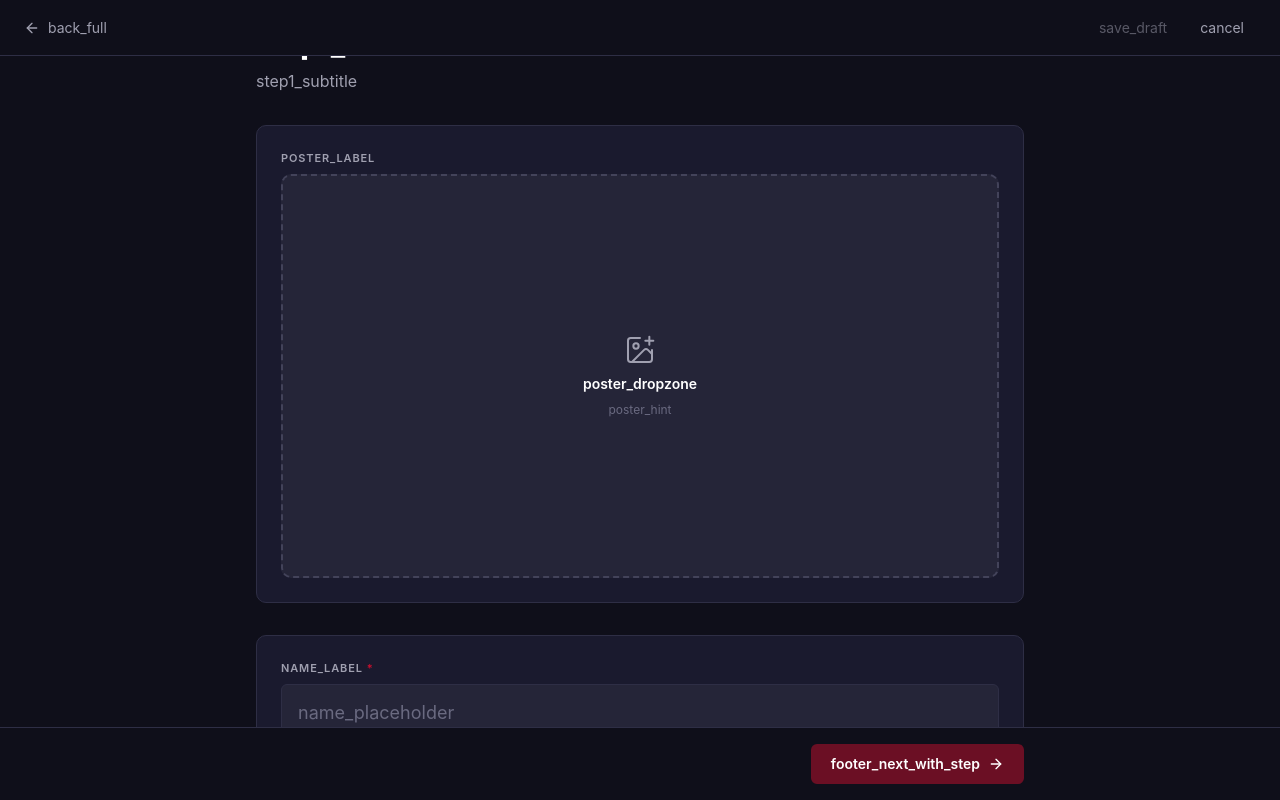
Test case: NewTournamentPage › disables Save Draft until name + sport + startDate + venue are all filled
(page scrolled)
Expected: the button "save_draft" is disabled, [1086, 10, 1180, 44]
Type "Spring Cup 2026" into the field with placeholder "name_placeholder" at (640, 712), box [281, 684, 999, 740]
(page scrolled)
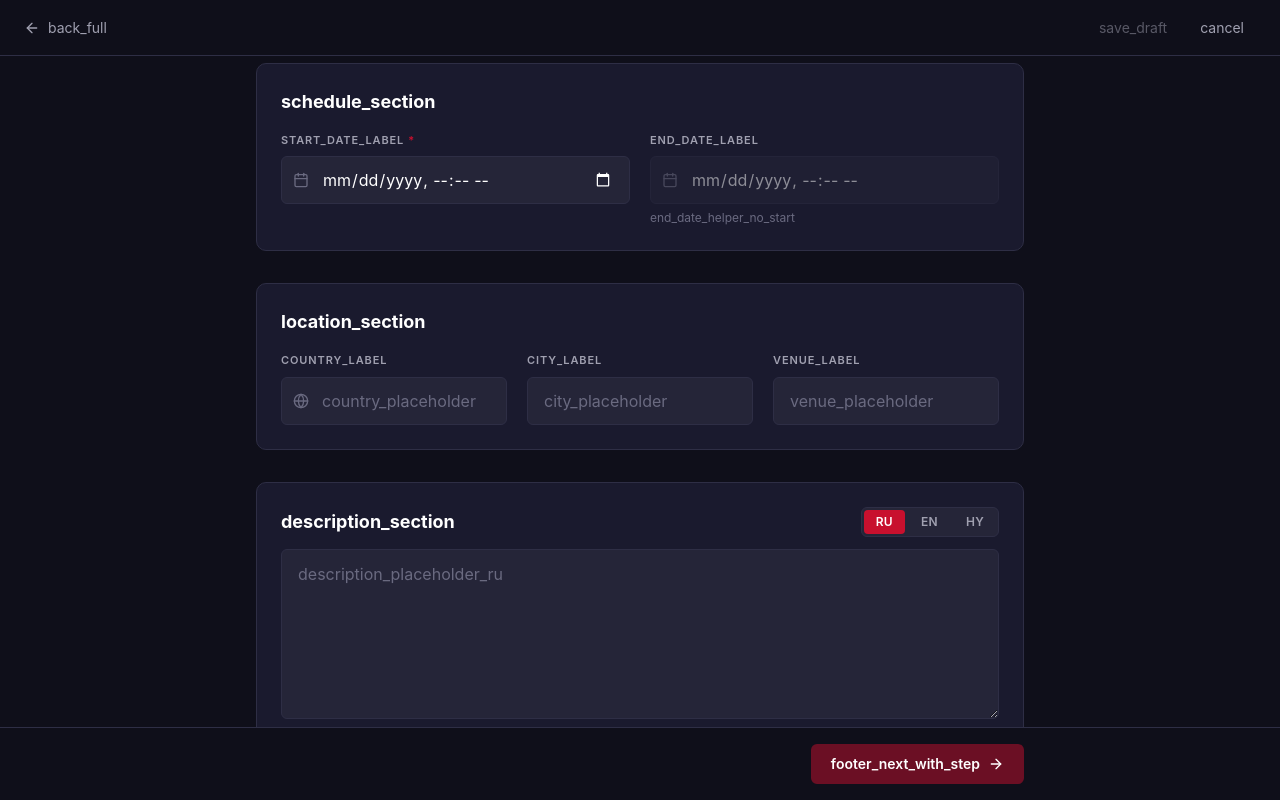
Type "Yerevan Arena" into the field with placeholder "venue_placeholder" at (886, 401), box [773, 377, 999, 425]
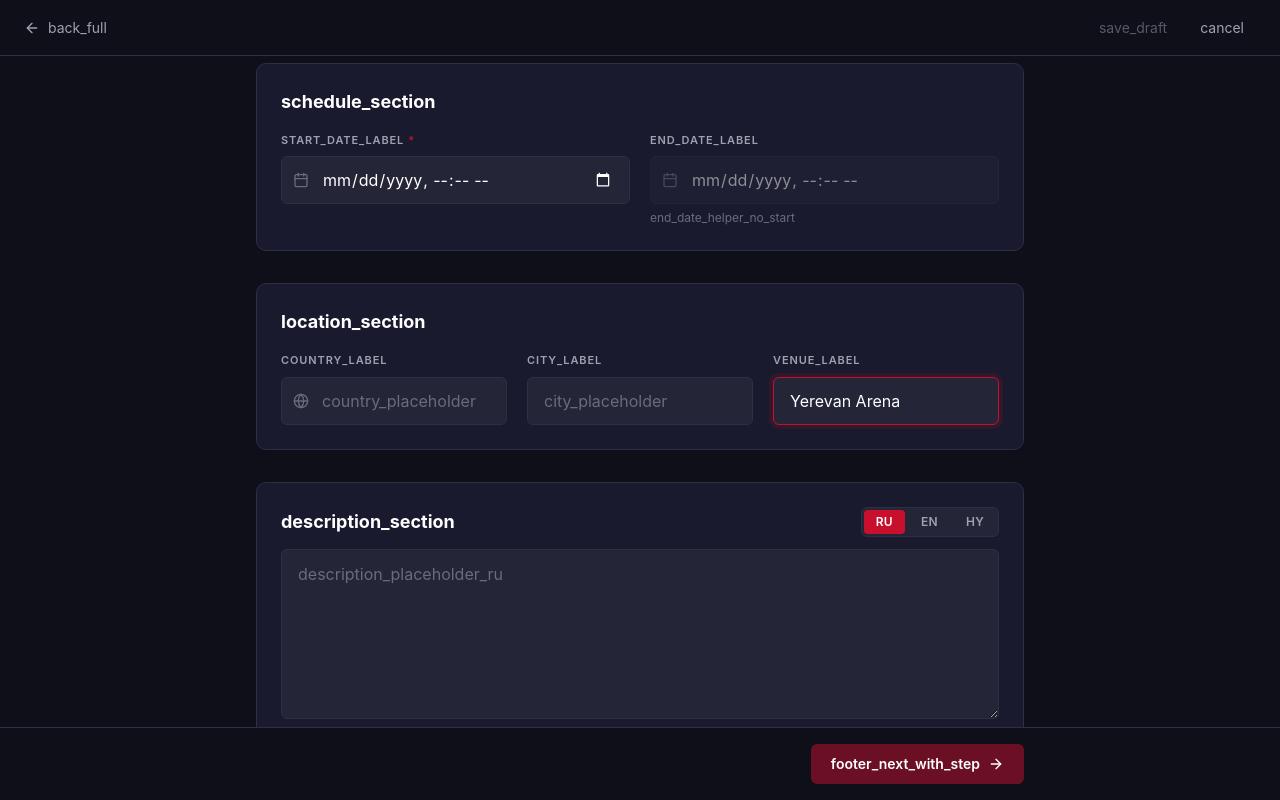
Type "2027-06-01T10:00" into the field below "start_date_label" at (456, 180), box [281, 156, 630, 204]
(page scrolled)
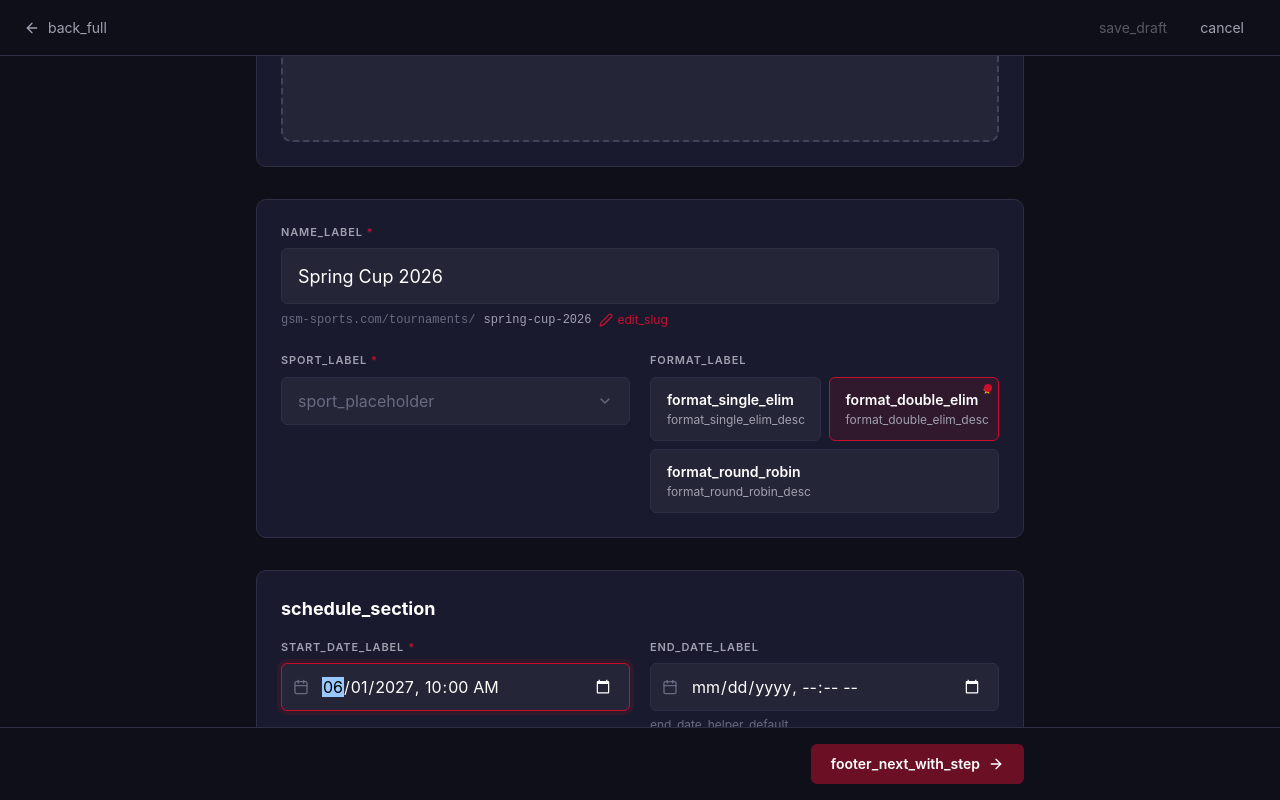
Open the sport dropdown and pick boxing.
Click the button "sport_placeholder" at (366, 401), box [281, 377, 630, 425]
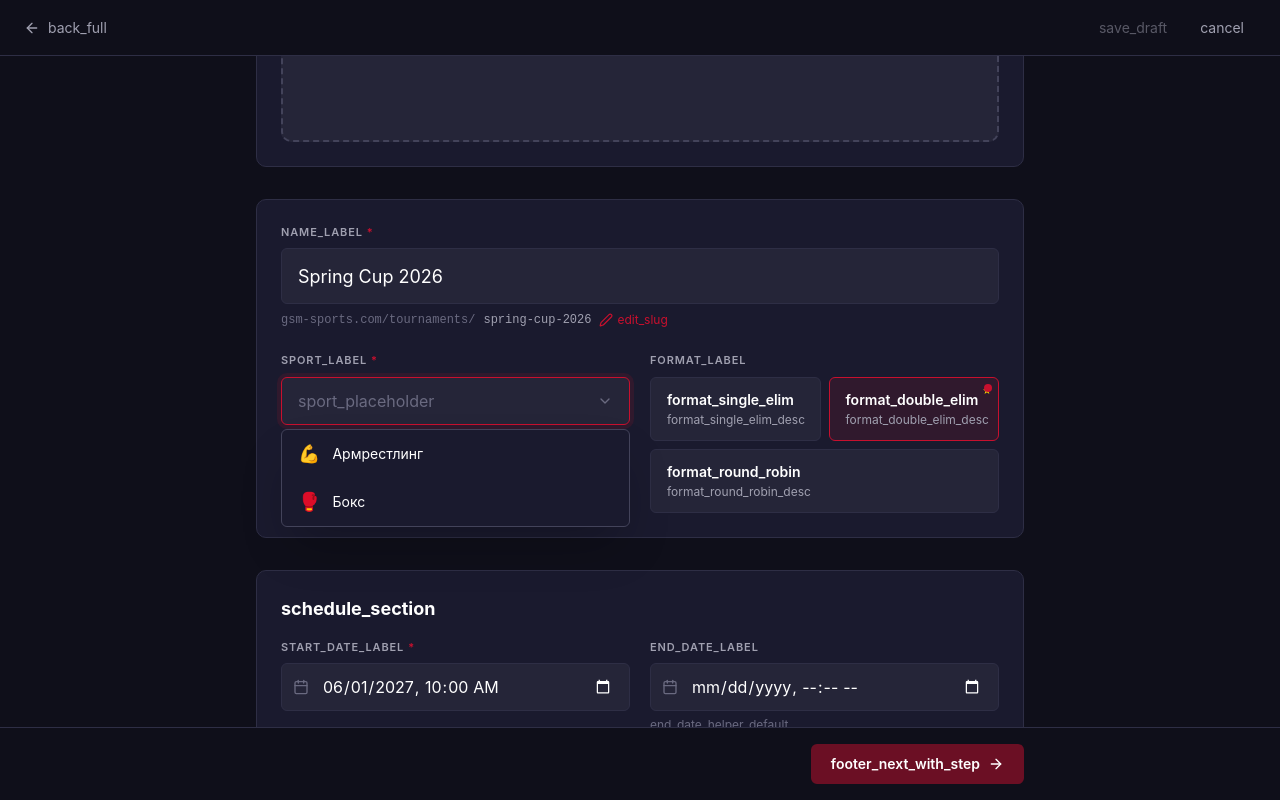
Click the text "Бокс" at (349, 502), box [332, 492, 365, 512]
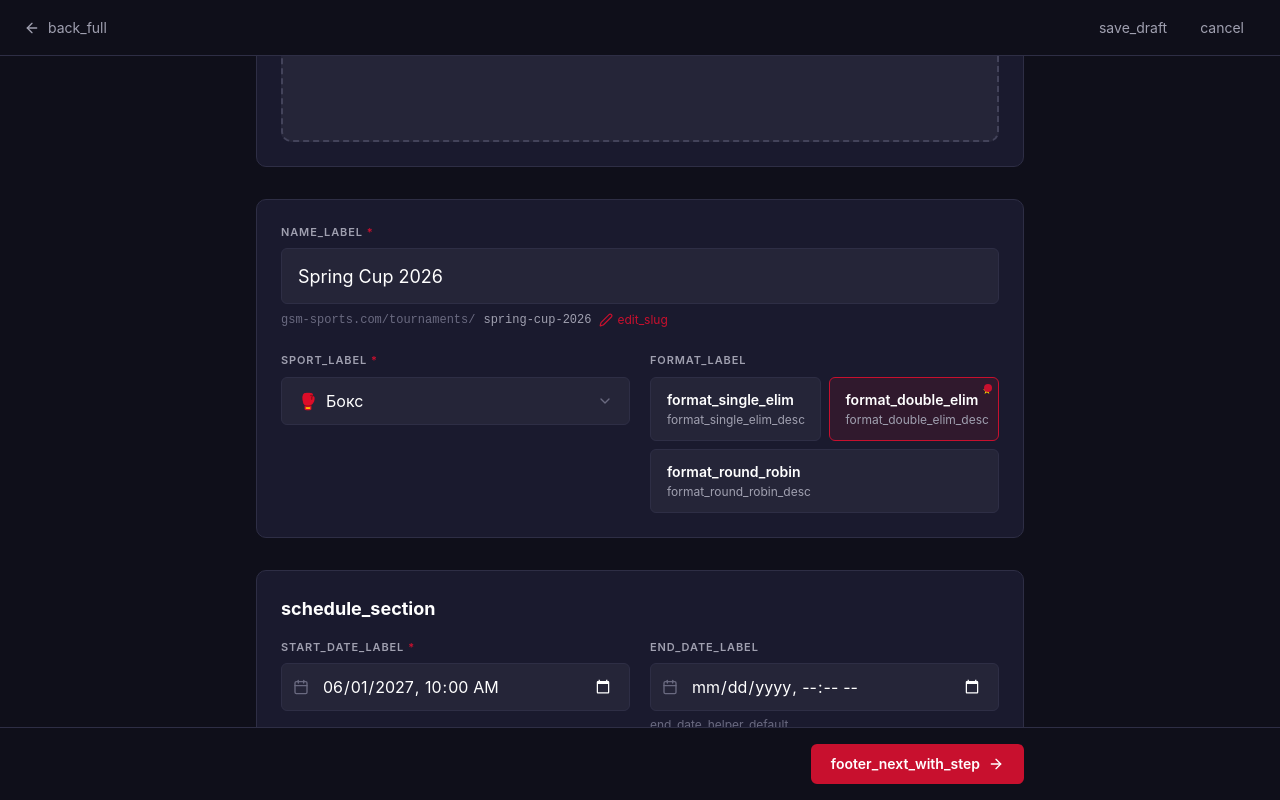
Expected: the button "save_draft" is enabled, [1086, 10, 1180, 44]
